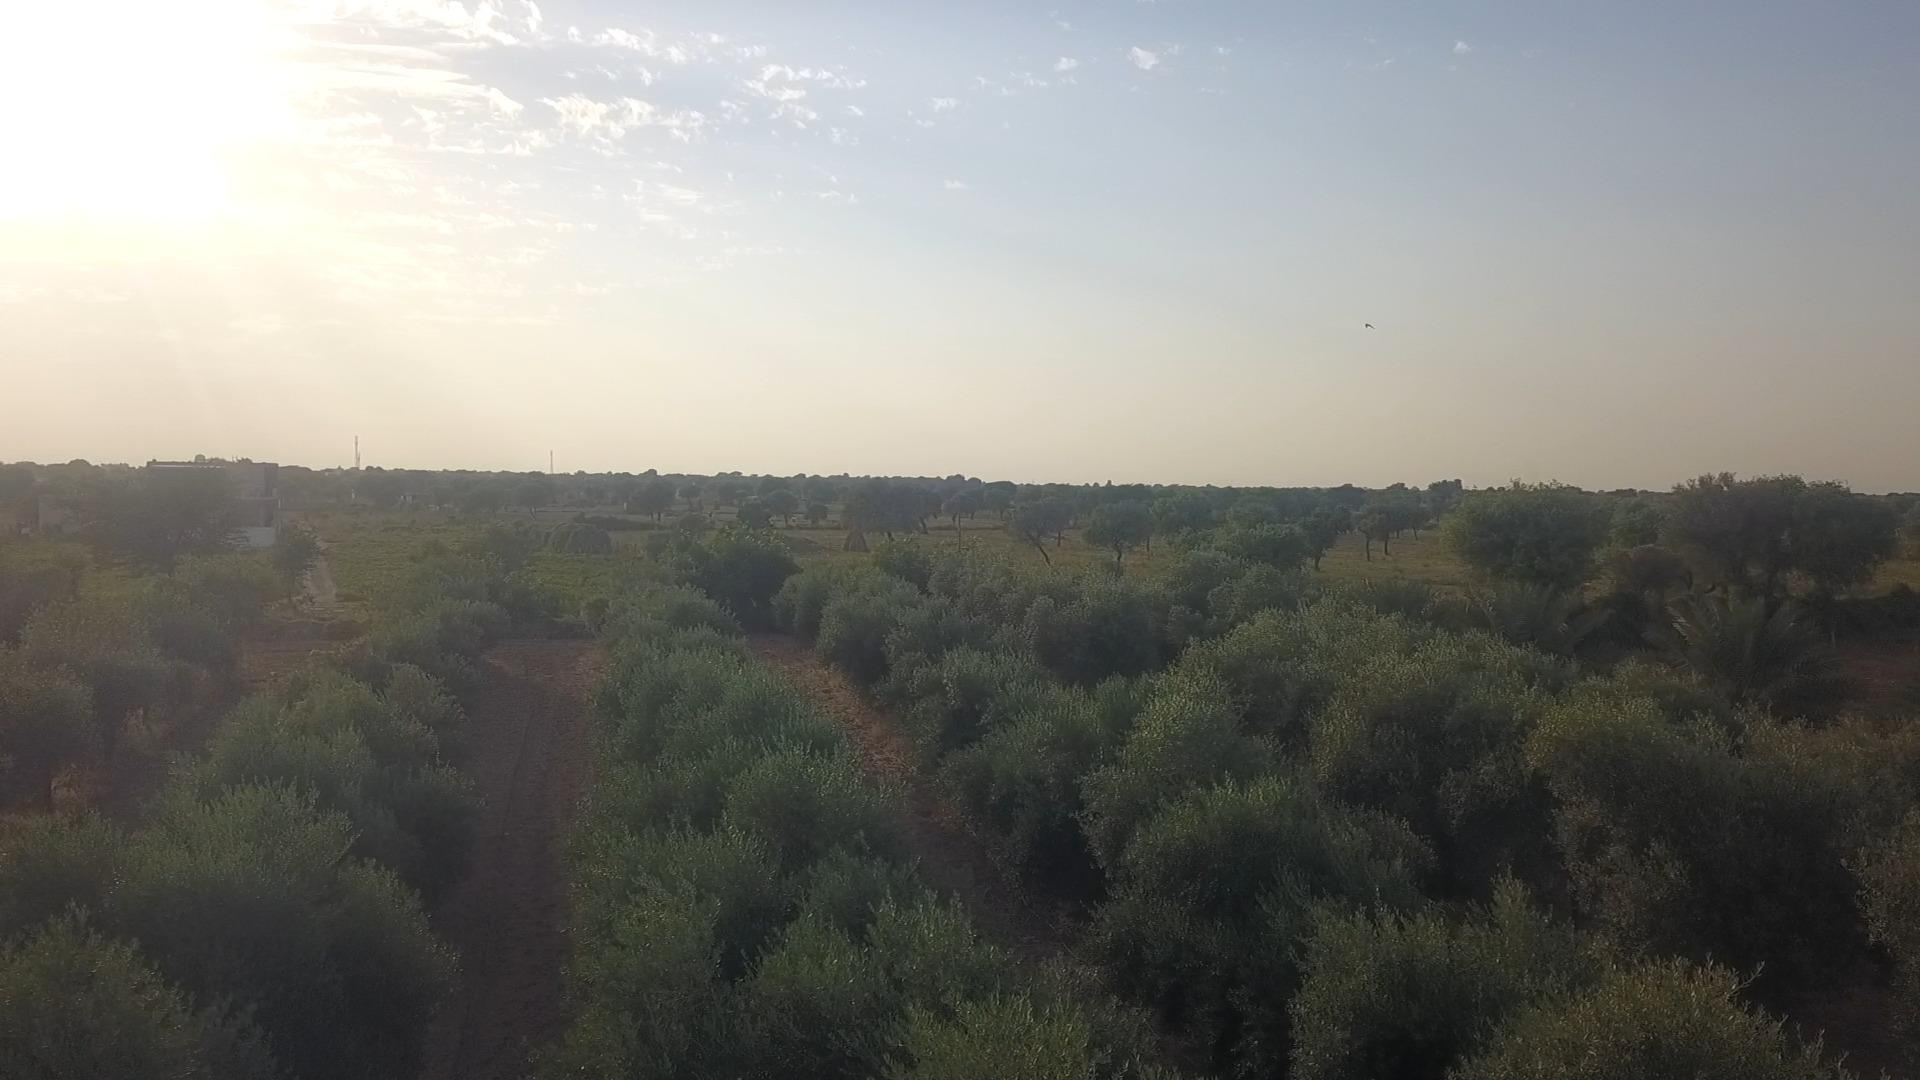canopy: (777, 568, 1830, 1079), (877, 546, 1919, 1036), (539, 584, 1174, 1079), (0, 599, 508, 1079), (0, 560, 266, 803)
road: (746, 636, 1048, 947), (421, 626, 607, 1077), (49, 622, 355, 816)
